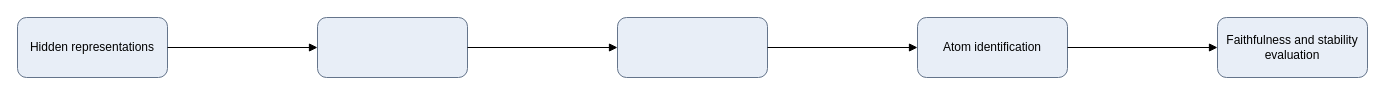
The diagram is 1385 pixels wide and 95 high, and some of its shapes have lost their labels. Here are the shapes that lost their labels. From the top down, the box of each, then its label:
(316, 16, 468, 78): Atomic Inner Product (AIP)
(616, 16, 768, 78): Threshold Sparse Autoencoder (TSAE)
